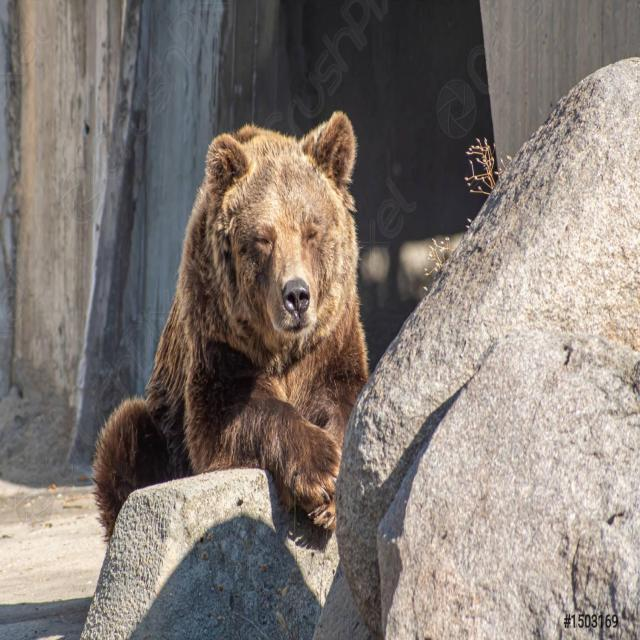Bear: (92, 111, 369, 556)
